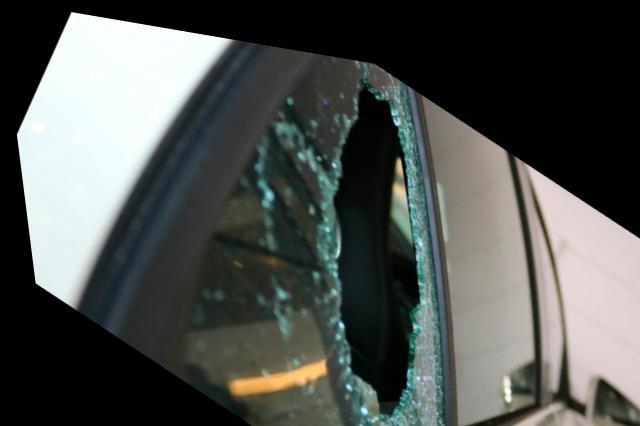glass shatter: (174, 43, 435, 426)
